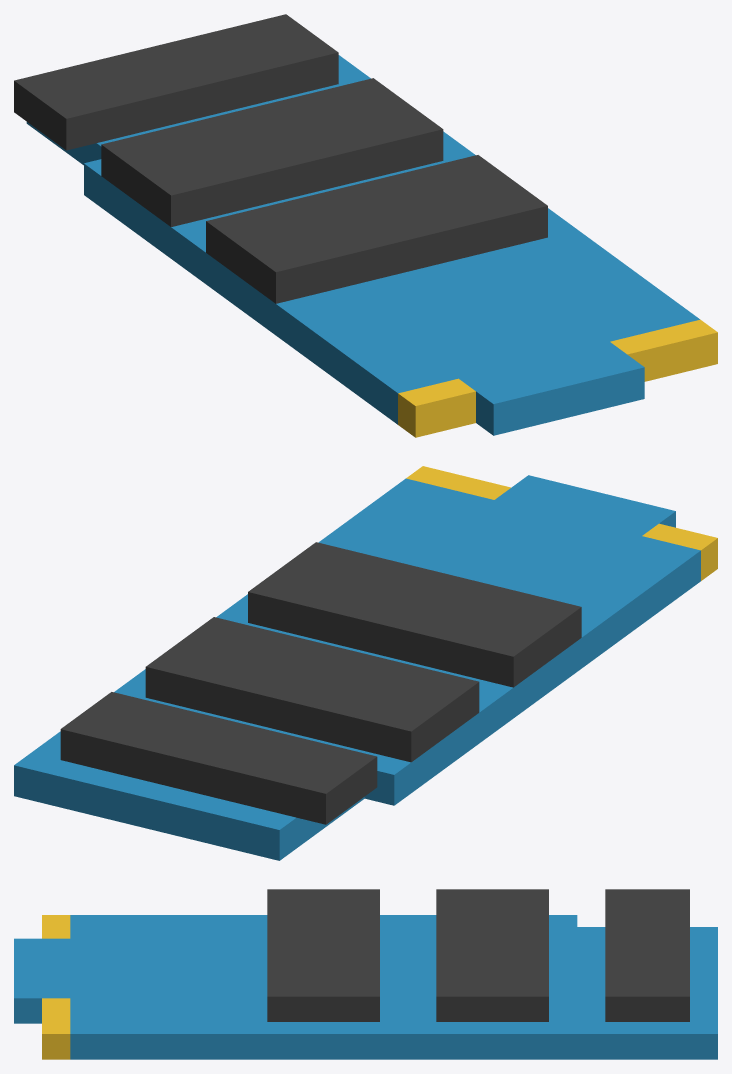
File: vanTop.obj
The picture shows the model from 3 angles, top to bottom: view 1: azimuth 30°, elevation 25°; view 2: azimuth 150°, elevation 25°; view 3: azimuth 270°, elevation 25°; orthographic projection. The views are drawn at different scales.
Bounding box in the file's own units: 1 × 0.2 × 2.5.
1 material, 1 textured.
